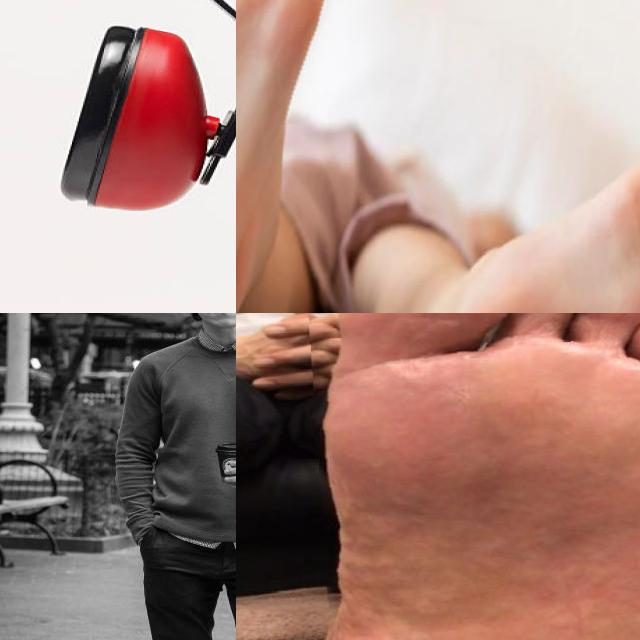Barefoots: (310, 313, 640, 640), (432, 89, 640, 313), (236, 0, 345, 313)
Ear-protection: (0, 0, 236, 223)
person: (112, 313, 236, 640)
